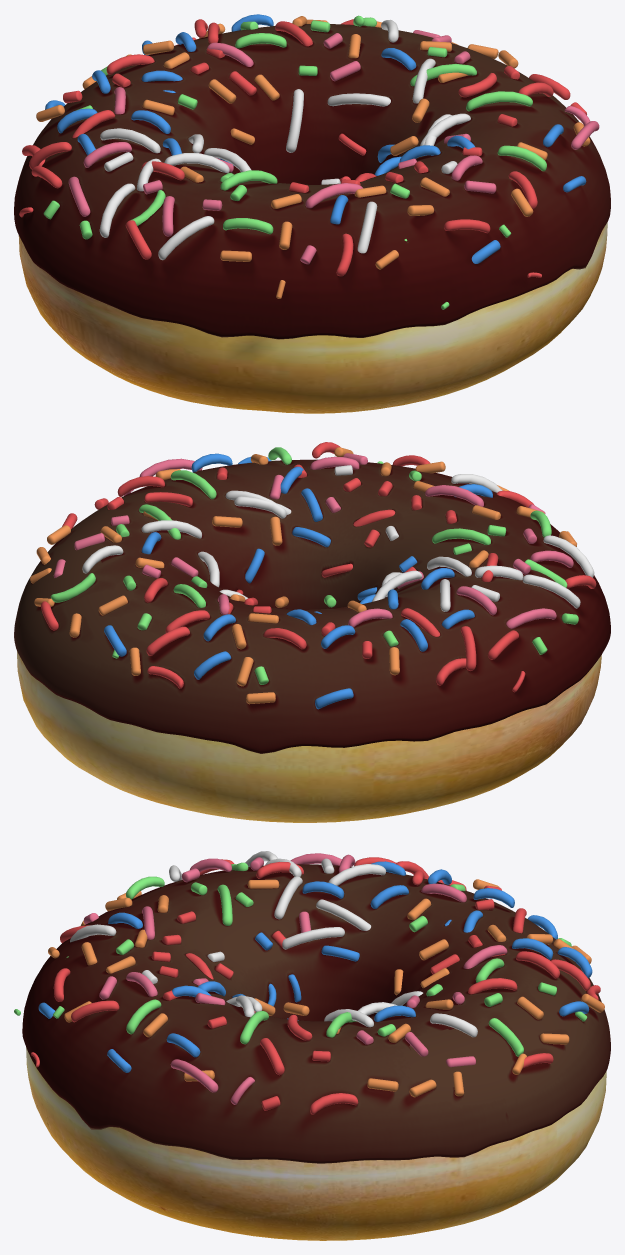
Rendered from dark rainbow vermicheli.glb.
3 renders of one model, top to bottom at view 1: azimuth 30°, elevation 25°; view 2: azimuth 150°, elevation 25°; view 3: azimuth 270°, elevation 25°, orthographic. The views are drawn at different scales.
Parts seen in each view (by area): view 1: coffee.001, dark, blue.002, Torus; view 2: dark, coffee.001, blue.002, Torus; view 3: dark, coffee.001, Torus, blue.002.
Part boxes in pixels (bbox=[...]): coffee.001: bbox=[14, 24, 610, 338]; dark: bbox=[15, 24, 610, 339]; blue.002: bbox=[19, 14, 599, 309]; Torus: bbox=[18, 222, 607, 413]; dark: bbox=[14, 460, 595, 753]; coffee.001: bbox=[14, 459, 610, 753]; blue.002: bbox=[30, 442, 596, 709]; Torus: bbox=[17, 651, 601, 822]; dark: bbox=[43, 864, 610, 1163]; coffee.001: bbox=[22, 864, 610, 1163]; Torus: bbox=[26, 1047, 606, 1240]; blue.002: bbox=[14, 851, 604, 1114].
Bounding box in the file's own units: 0.1989 × 0.0773 × 0.2.
Materials: 9 (2 with a texture image).
